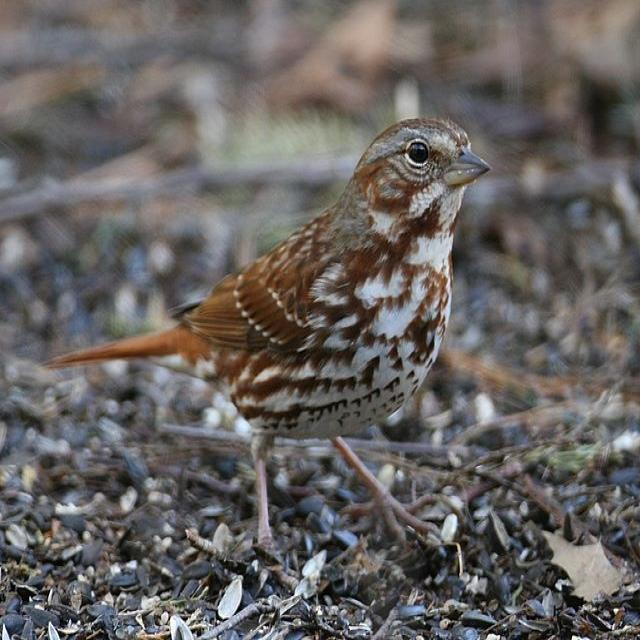bird: (44, 90, 503, 546)
